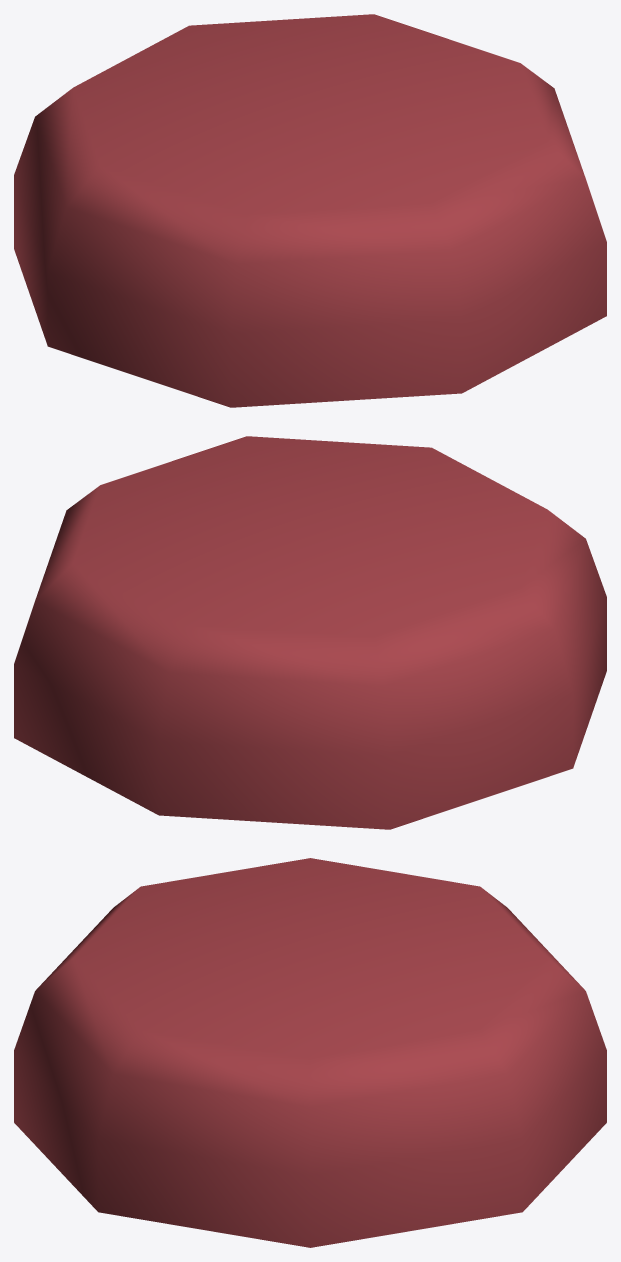
File: Button.fbx
3 renders of one model, top to bottom at view 1: azimuth 30°, elevation 25°; view 2: azimuth 150°, elevation 25°; view 3: azimuth 270°, elevation 25°, orthographic. The views are drawn at different scales.
Parts seen in each view (by area): view 1: Button; view 2: Button; view 3: Button.
Part boxes in pixels (left/top/right/bottom): Button: left=14, top=14, right=606, bottom=407; Button: left=14, top=436, right=606, bottom=829; Button: left=14, top=858, right=606, bottom=1247.
Bounding box in the file's own units: 0.5418 × 0.1657 × 0.5418.
